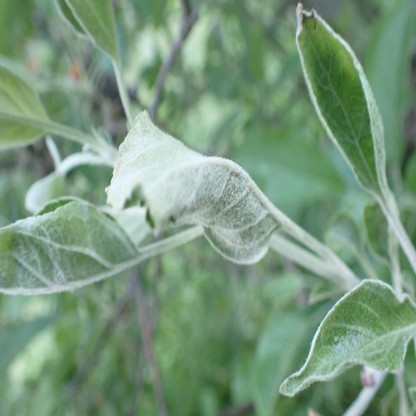powdery_mildew: (105, 111, 282, 265), (295, 4, 386, 196), (279, 278, 416, 398), (0, 195, 141, 293)
